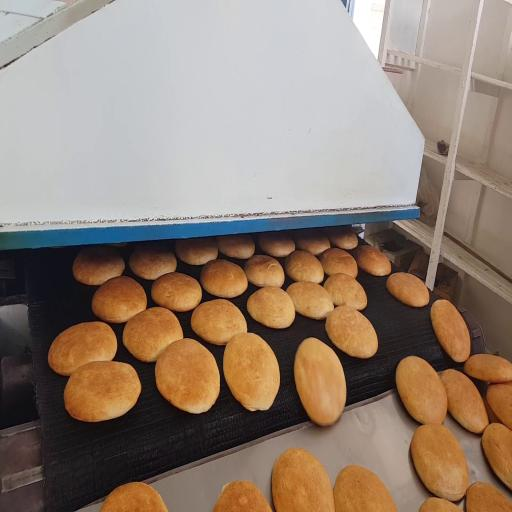bread: (155, 339, 219, 413), (64, 361, 141, 421), (294, 338, 346, 425), (411, 425, 469, 501), (223, 333, 279, 411), (272, 448, 334, 511), (48, 322, 117, 376), (396, 356, 447, 424), (123, 307, 183, 362), (441, 369, 488, 433), (334, 466, 397, 511), (326, 306, 378, 358), (191, 299, 247, 345), (92, 276, 146, 323), (431, 300, 470, 362), (73, 246, 125, 285), (247, 287, 295, 328), (482, 423, 511, 489), (151, 273, 201, 311), (100, 483, 167, 511), (200, 260, 247, 298), (214, 481, 271, 511), (287, 282, 333, 319), (129, 245, 176, 280), (324, 274, 367, 310), (387, 273, 429, 307), (464, 354, 511, 383), (466, 482, 511, 511), (244, 255, 284, 287), (285, 251, 323, 283), (175, 238, 218, 265), (487, 383, 511, 429), (319, 248, 357, 277), (355, 246, 391, 276), (216, 234, 255, 260), (258, 231, 295, 258), (294, 229, 330, 256), (327, 226, 358, 249), (419, 498, 460, 511), (483, 395, 501, 423)
